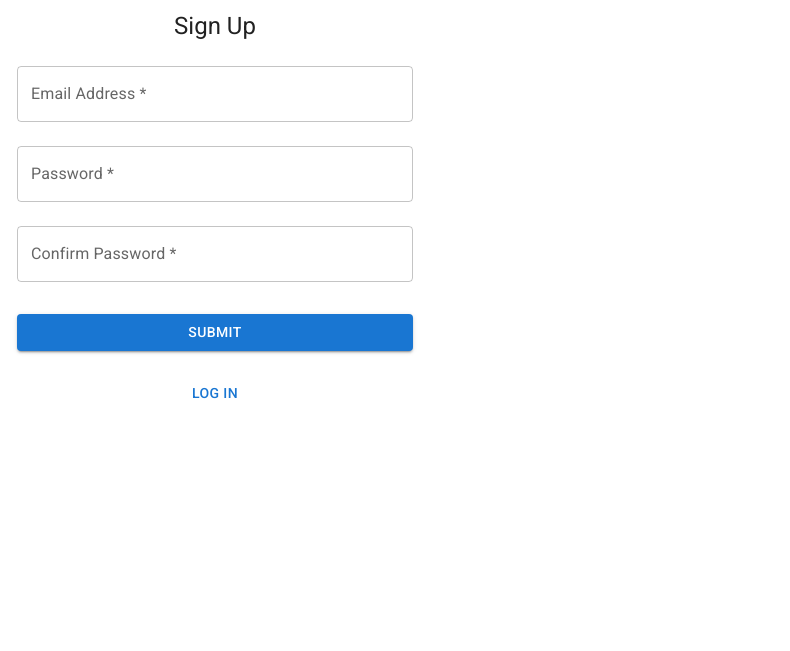
Test: signup-page › sign up page - sign up failed
The width and height of the screenshot is (790, 651).
Type "test@yopmail.com" into the field labelled "Email Address *" at (215, 94), box 17,66 -> 413,122
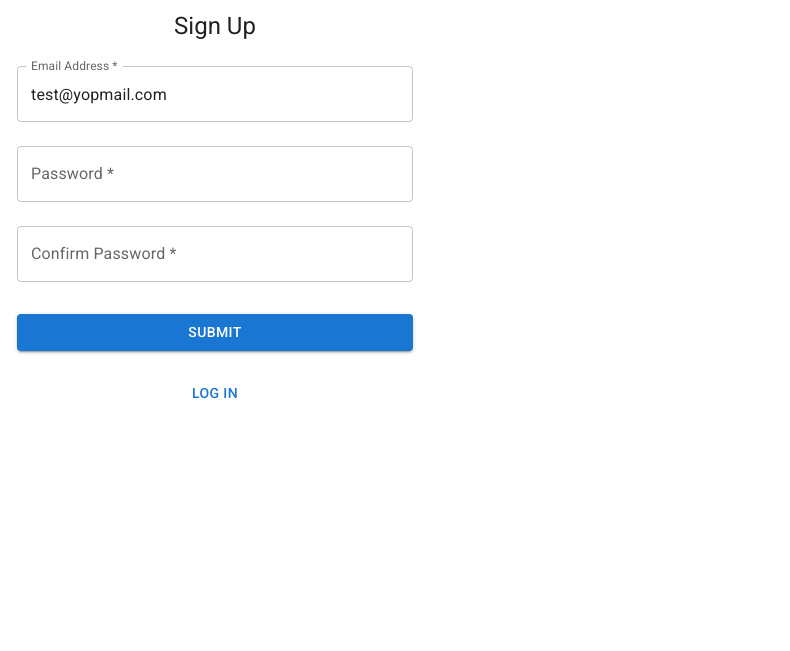
Type "123456" into the password field labelled "Password *" at (215, 174), box 17,146 -> 413,202
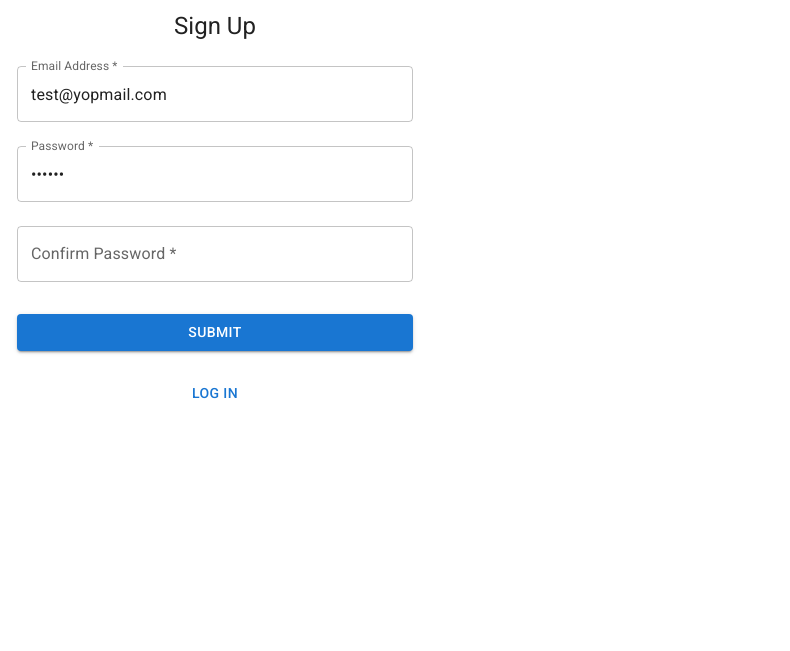
Type "123456" into the password field labelled "Confirm Password *" at (215, 254), box 17,226 -> 413,282
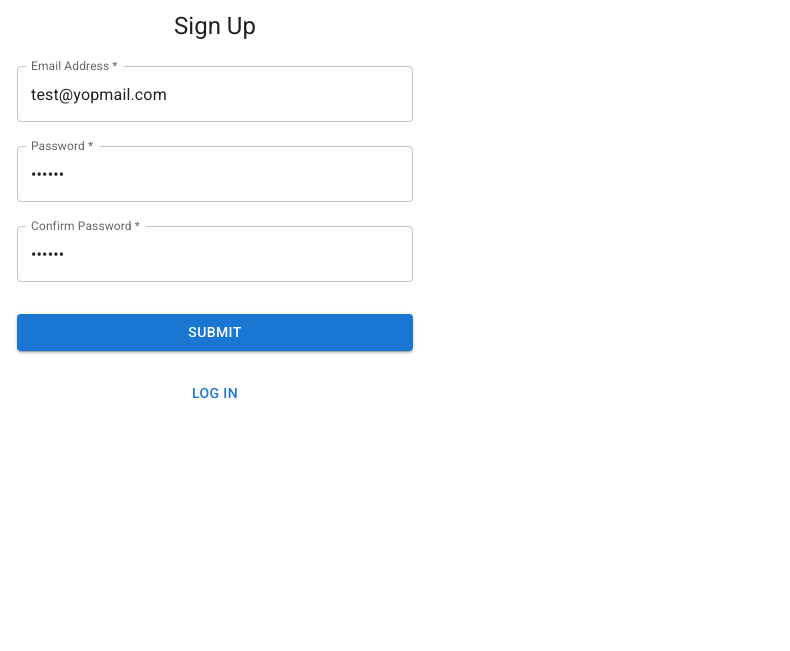
Click the button "Submit" at (215, 332), box 17,314 -> 413,350
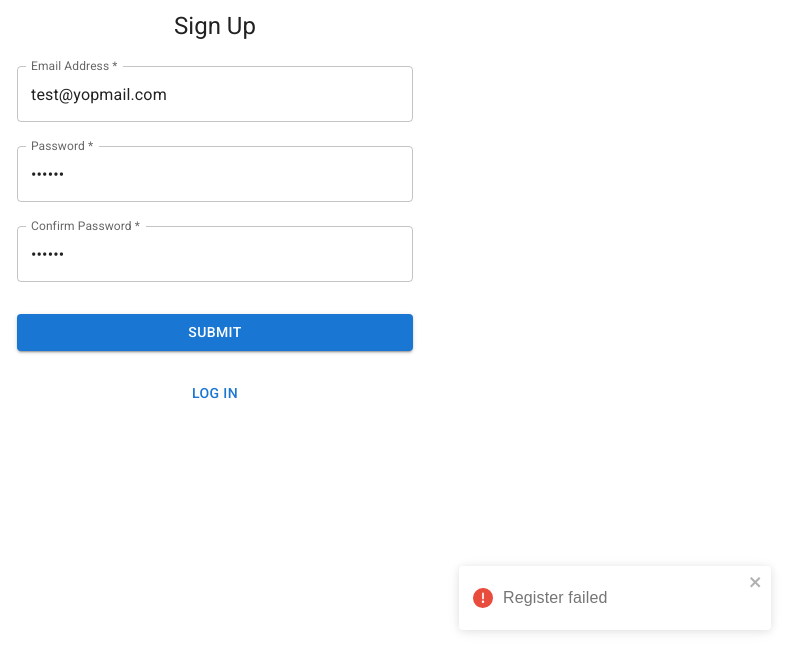
Check: the text "Register failed" is shown, box 503,589 -> 608,606
